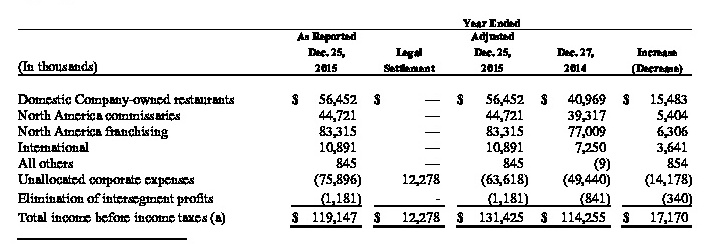table: (0, 0, 710, 246)
